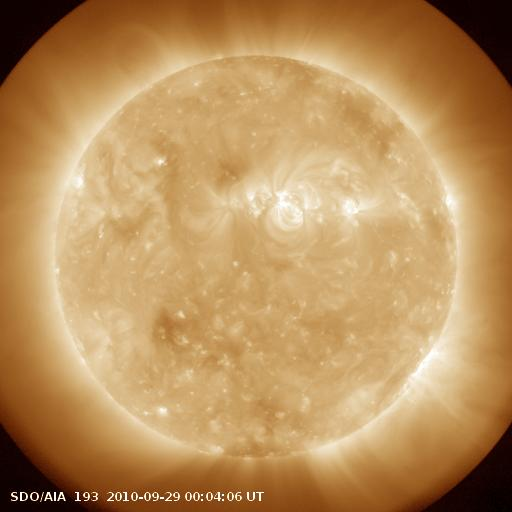coronal_hole: (146, 306, 197, 354)
